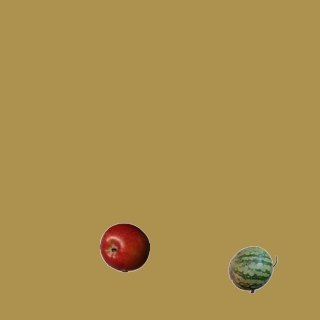Apple Braeburn: (99, 222, 149, 272)
Watermelon: (227, 244, 277, 294)
